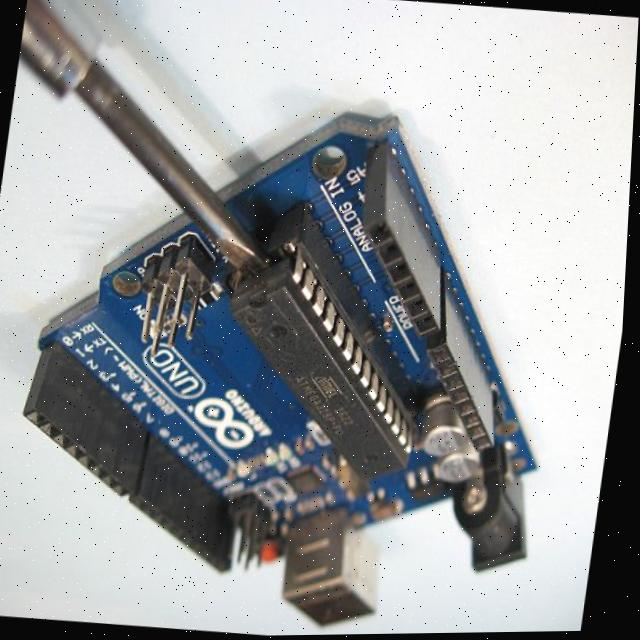Arduino: (0, 66, 586, 634)
